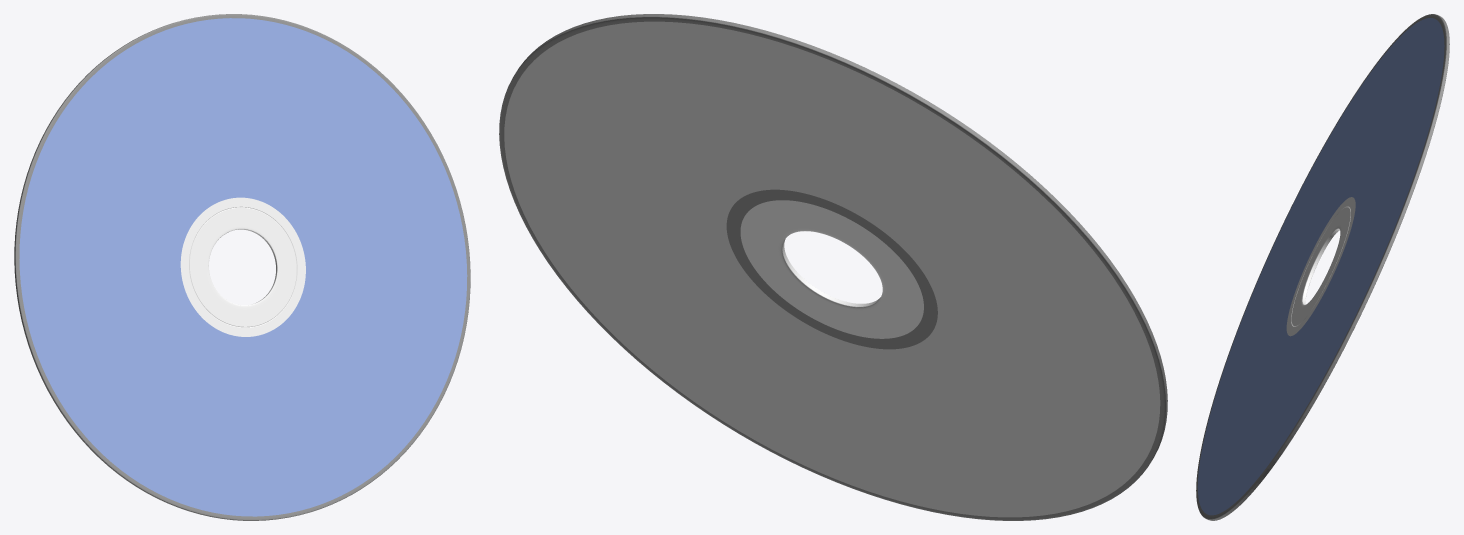
3 renders of one model, left to right at view 1: azimuth 30°, elevation 25°; view 2: azimuth 150°, elevation 25°; view 3: azimuth 270°, elevation 25°, orthographic. The views are drawn at different scales.
Parts seen in each view (by area): view 1: Circle; view 2: Circle; view 3: Circle.
Boxes of the visible parts, <box> form: Circle: <box>14,14,470,520</box>; Circle: <box>499,14,1167,520</box>; Circle: <box>1196,14,1449,520</box>.
Size of the model in its own units: 476 by 426 by 218.
